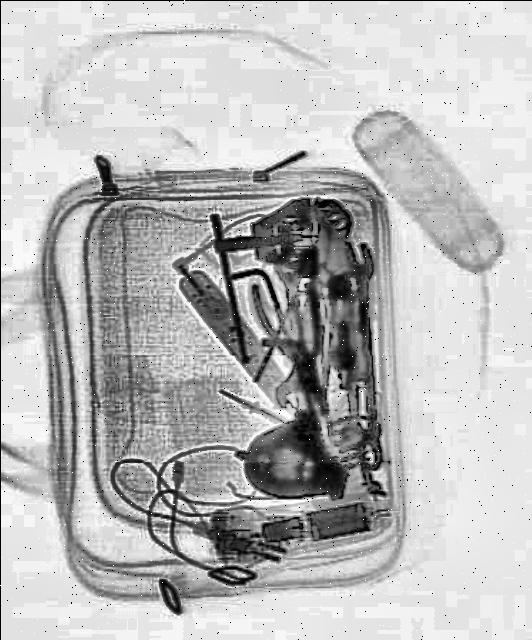Wrench: (340, 242, 382, 473), (270, 256, 308, 409)
